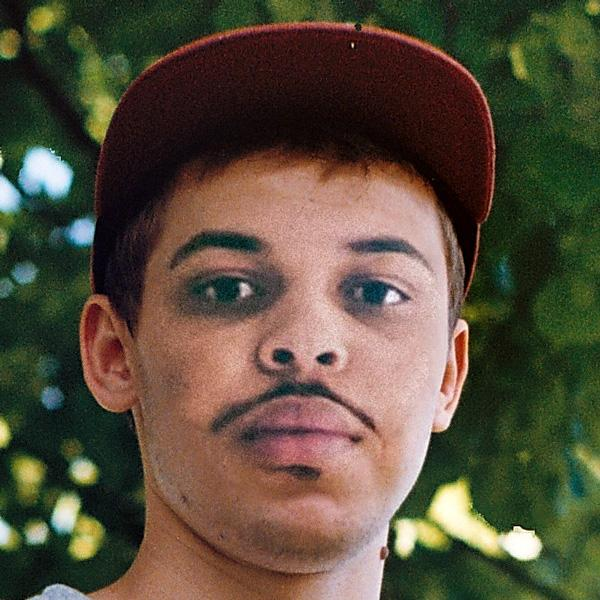Eyes: (182, 260, 272, 318), (335, 265, 419, 320)
